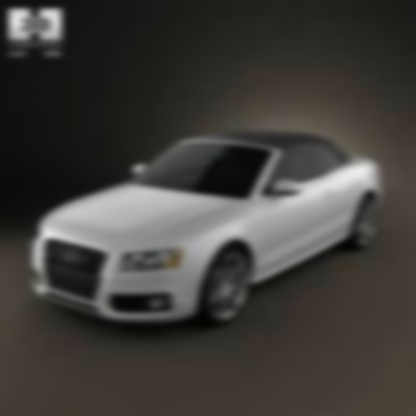Vehicle: (33, 132, 383, 328)
